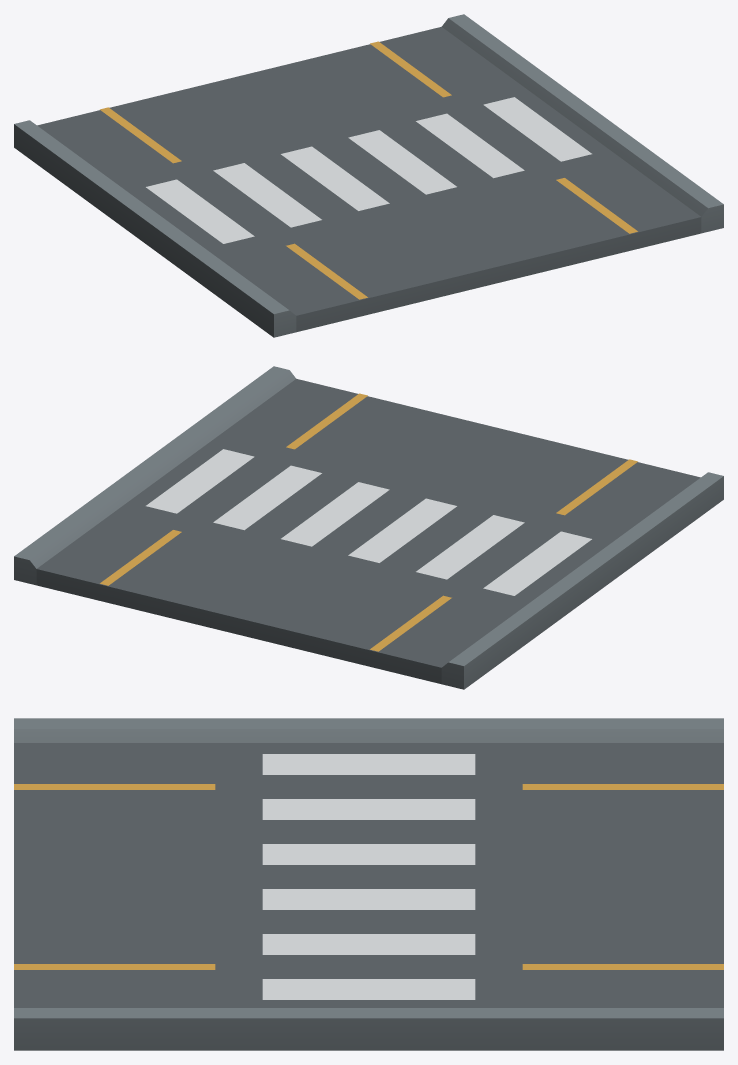
Rendered from road_straight_crossing-processed.glb.
3 renders of one model, top to bottom at view 1: azimuth 30°, elevation 25°; view 2: azimuth 150°, elevation 25°; view 3: azimuth 270°, elevation 25°, orthographic. The views are drawn at different scales.
Visible parts, largest first — view 1: road_straight_crossing; view 2: road_straight_crossing; view 3: road_straight_crossing.
Boxes of the visible parts, x1,y1,x2,y2 form: road_straight_crossing: [14, 14, 723, 337]; road_straight_crossing: [14, 366, 723, 689]; road_straight_crossing: [14, 718, 723, 1050].
Size of the model in its own units: 2 by 0.1 by 2.
Materials: 1 (1 with a texture image).
